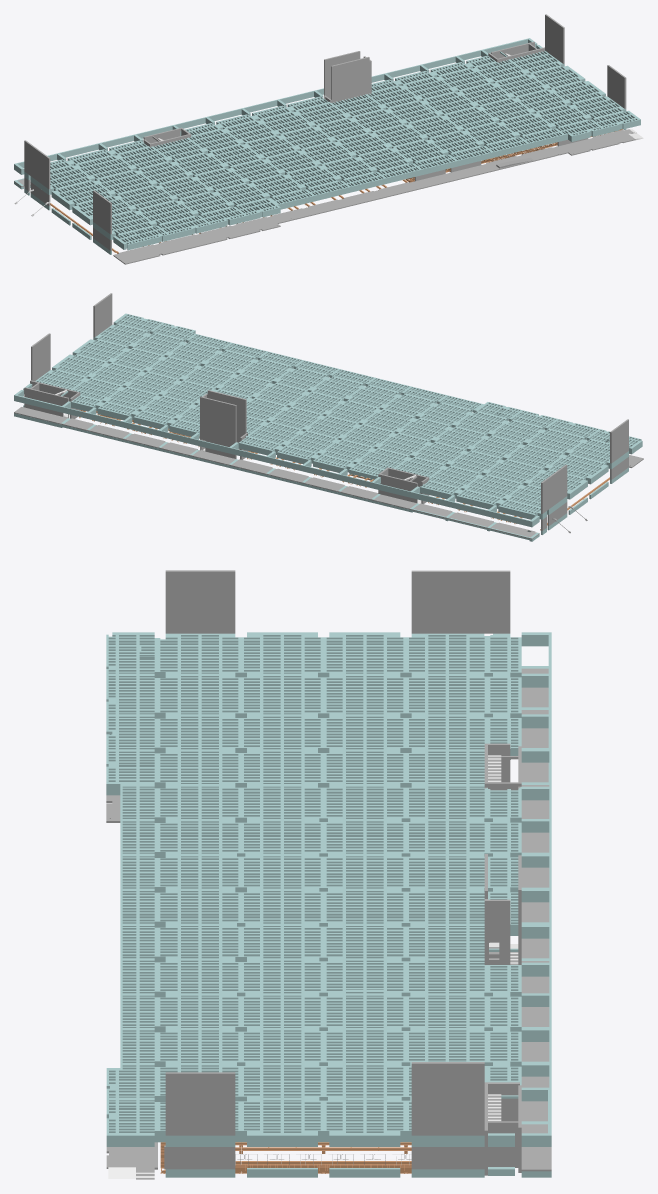
Rendered from detail-frame-2-1f.glb.
The picture shows the model from 3 angles, top to bottom: view 1: azimuth 30°, elevation 25°; view 2: azimuth 150°, elevation 25°; view 3: azimuth 270°, elevation 25°; orthographic projection. The views are drawn at different scales.
Size of the model in its own units: 108 by 11.15 by 38.86.
